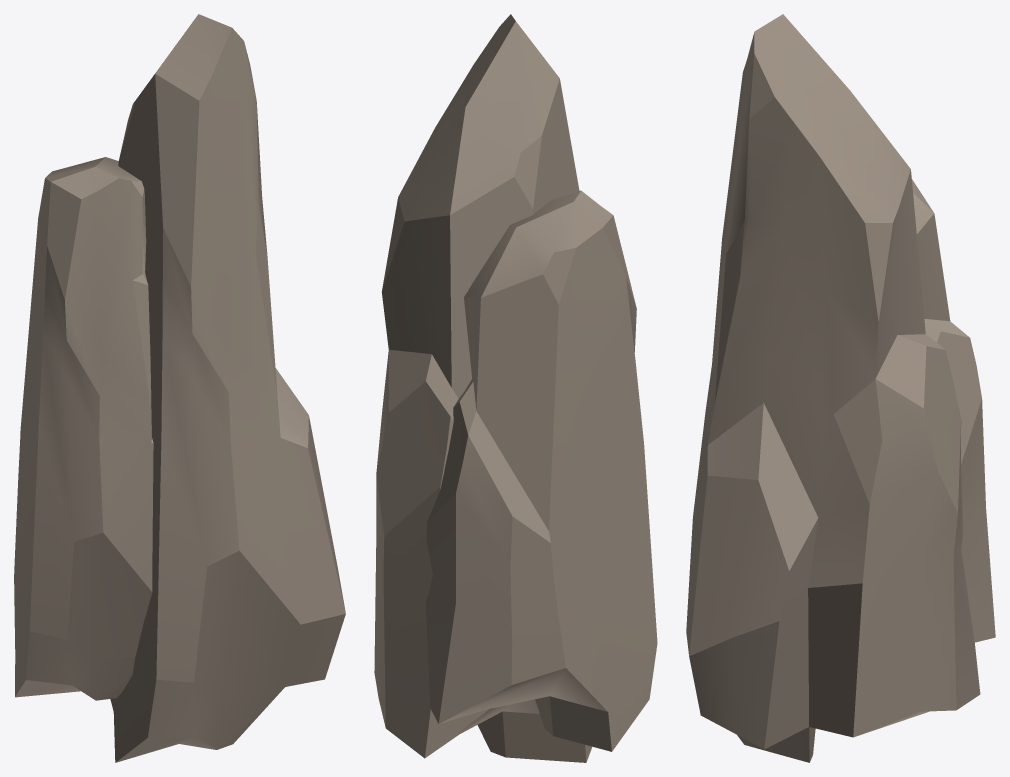
Rendered from Rock_4.glb.
3 views of the same model, side by side, from view 1: azimuth 30°, elevation 25°; view 2: azimuth 150°, elevation 25°; view 3: azimuth 270°, elevation 25° (orthographic). The views are drawn at different scales.
Parts seen in each view (by area): view 1: Rock; view 2: Rock; view 3: Rock.
Part boxes in pixels (left/top/right/bottom): Rock: left=14, top=14, right=345, bottom=762; Rock: left=374, top=14, right=657, bottom=762; Rock: left=686, top=14, right=995, bottom=762.
Size of the model in its own units: 0.8592 by 2.15 by 0.8124.
